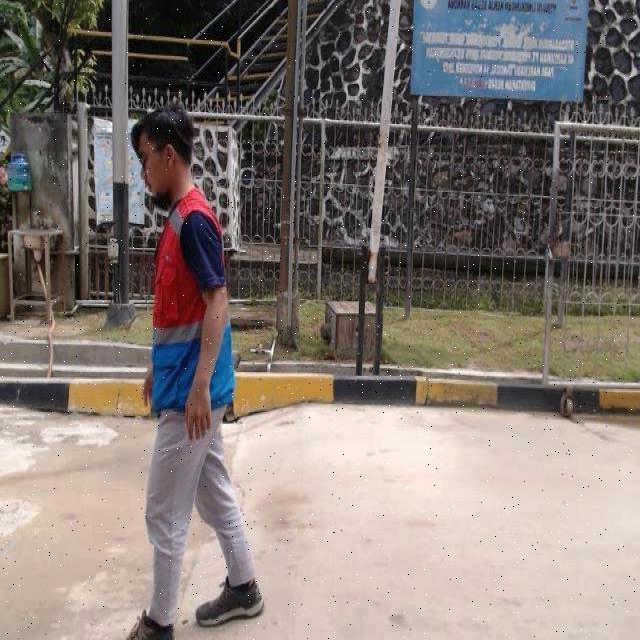Person: (134, 113, 240, 636)
Vest: (143, 192, 236, 425)
